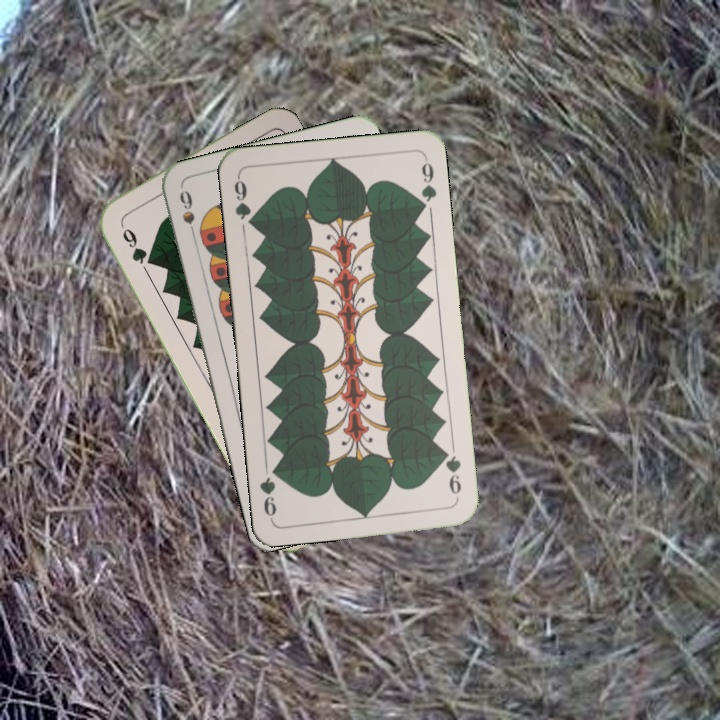G9: (118, 224, 157, 268), (230, 172, 258, 230), (439, 444, 464, 497)
S9: (175, 186, 200, 244)
